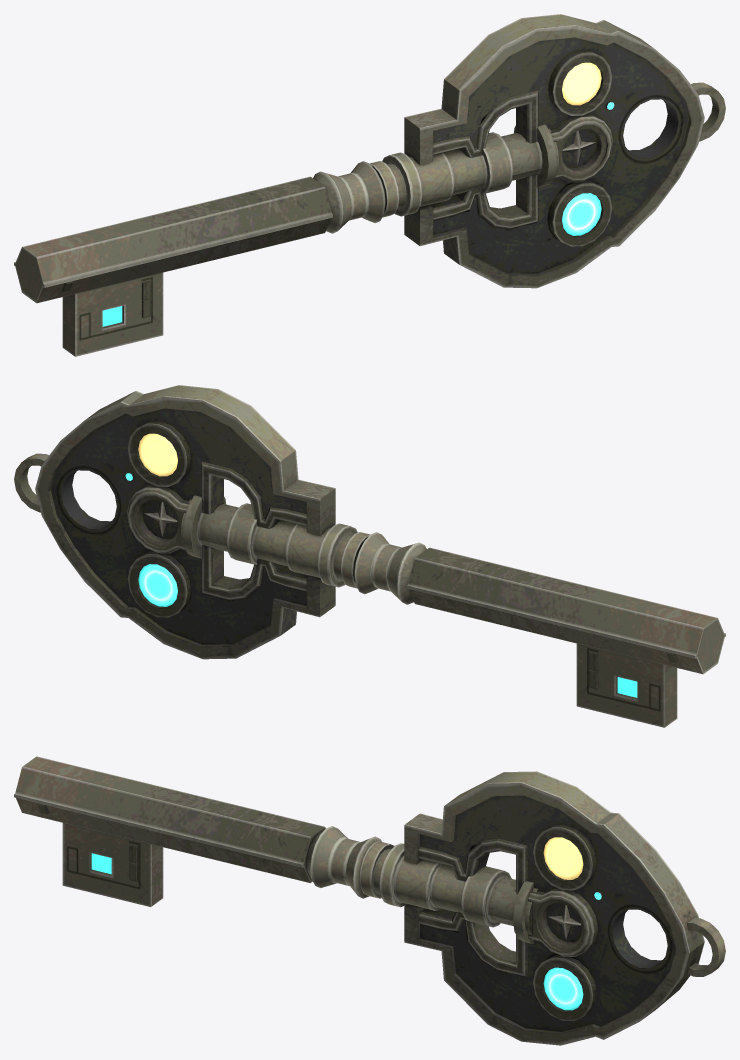
Rendered from key1.glb.
3 views of the same model, one above another, from view 1: azimuth 30°, elevation 25°; view 2: azimuth 150°, elevation 25°; view 3: azimuth 330°, elevation 25° (orthographic).
Visible parts, largest first — view 1: key1; view 2: key1; view 3: key1.
Boxes of the visible parts, x1,y1,x2,y2 form: key1: [14, 14, 725, 356]; key1: [14, 385, 725, 727]; key1: [14, 756, 725, 1045].
Bounding box in the file's own units: 0.9853 × 0.3514 × 0.0881.
Materials: 1 (1 with a texture image).
